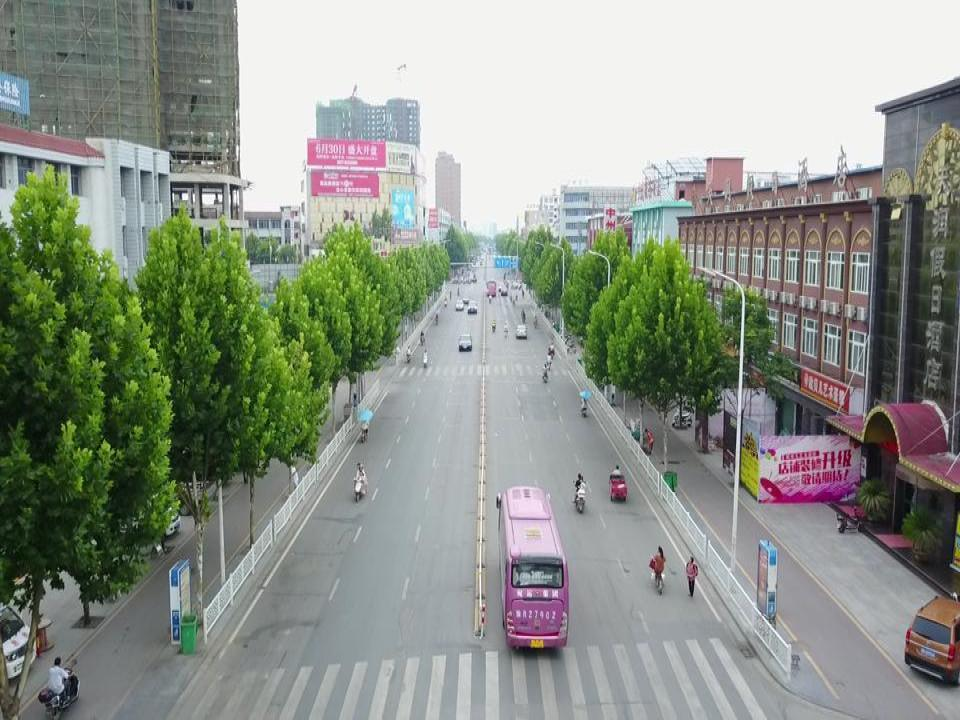bus: (495, 484, 570, 653), (485, 280, 496, 293)
car: (101, 464, 183, 536), (902, 591, 960, 688), (0, 594, 39, 682), (458, 333, 473, 352), (514, 325, 527, 339), (467, 301, 477, 314), (455, 298, 463, 310), (462, 292, 469, 304), (500, 287, 507, 296), (498, 282, 505, 290)
truck: (124, 436, 220, 513)
